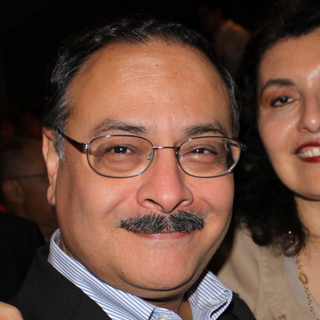eye: (181, 141, 223, 165), (99, 140, 142, 163), (265, 88, 304, 113)
